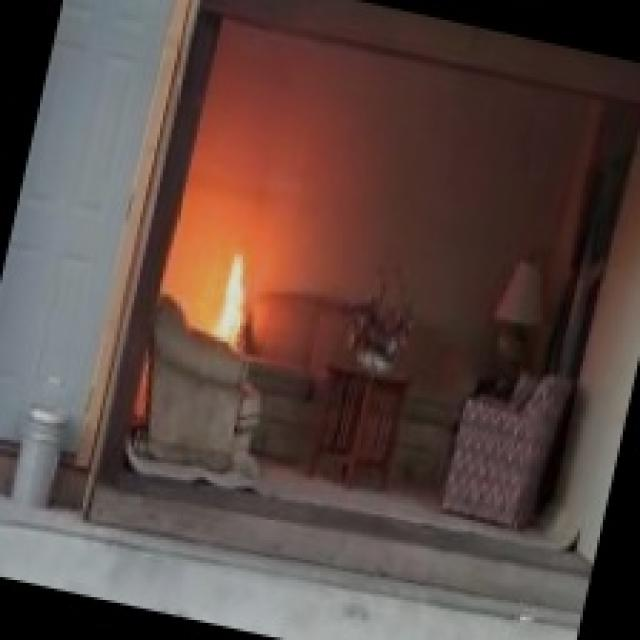fire: (178, 234, 282, 360)
